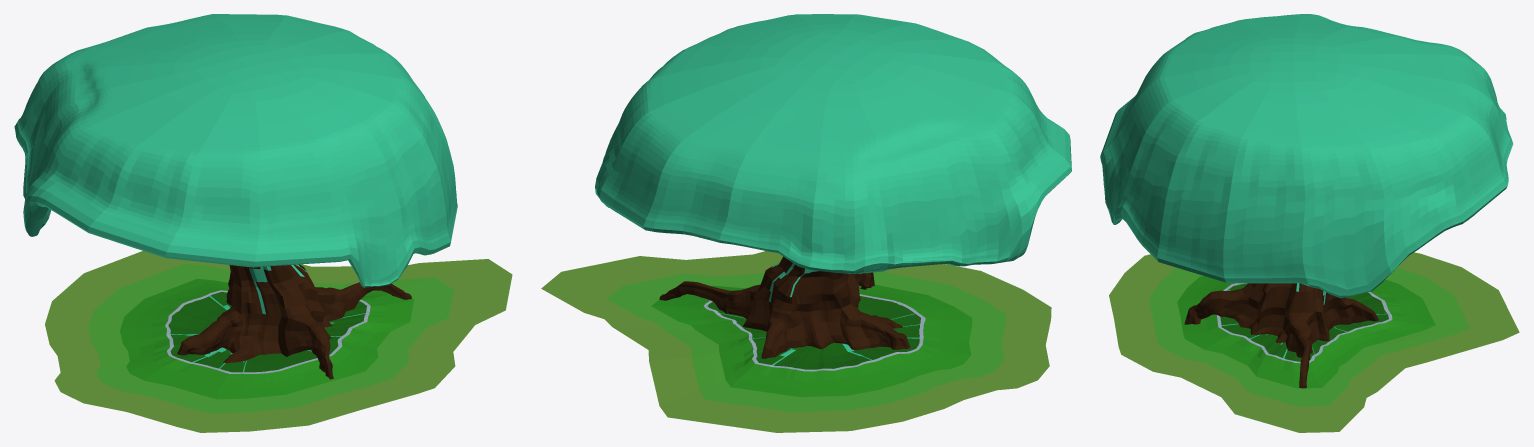
The model's file is VeksttreRough3.fbx.
3 views of the same model, side by side, from view 1: azimuth 30°, elevation 25°; view 2: azimuth 150°, elevation 25°; view 3: azimuth 270°, elevation 25° (orthographic). The views are drawn at different scales.
Parts seen in each view (by area): view 1: Leafs, Plane, Tree; view 2: Leafs, Plane, Tree; view 3: Leafs, Plane, Tree.
Boxes of the visible parts, box(x1,y1,x2,y2) form: Leafs: box(14, 14, 457, 287); Plane: box(45, 251, 512, 432); Tree: box(177, 264, 411, 379); Leafs: box(595, 14, 1071, 273); Plane: box(541, 251, 1051, 432); Tree: box(659, 256, 910, 358); Leafs: box(1100, 14, 1513, 298); Plane: box(1109, 252, 1519, 432); Tree: box(1184, 283, 1378, 388).
Size of the model in its own units: 85827 by 47757 by 71534.
